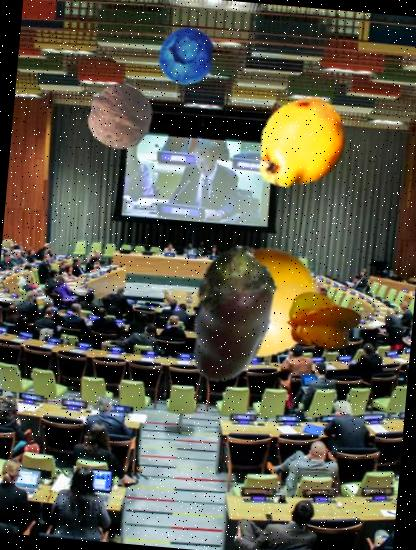Carambula: (283, 284, 363, 364)
Eggplant: (155, 237, 312, 394)
Grapefruit: (202, 239, 328, 365)
Huckleberry: (154, 24, 218, 88)
Quince: (244, 89, 355, 200)
Walnut: (85, 81, 158, 154)
